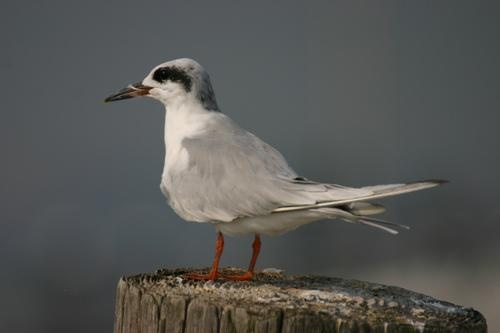bird: (105, 56, 447, 278)
